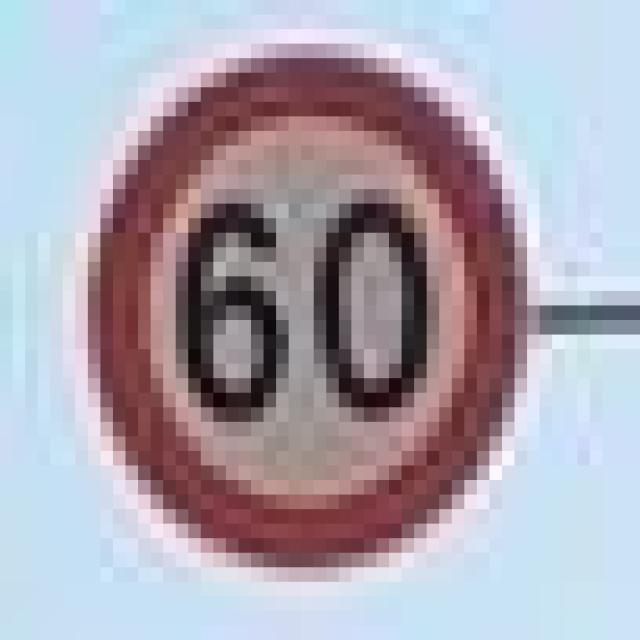speed_limit_60: (62, 29, 514, 567)
